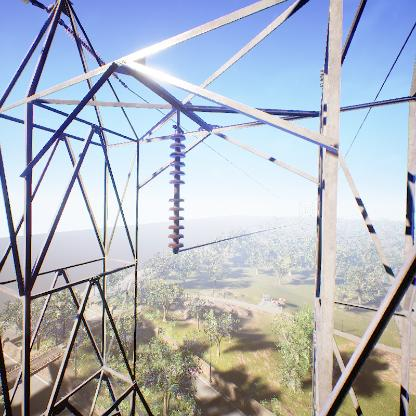insulator: (166, 132, 186, 250)
